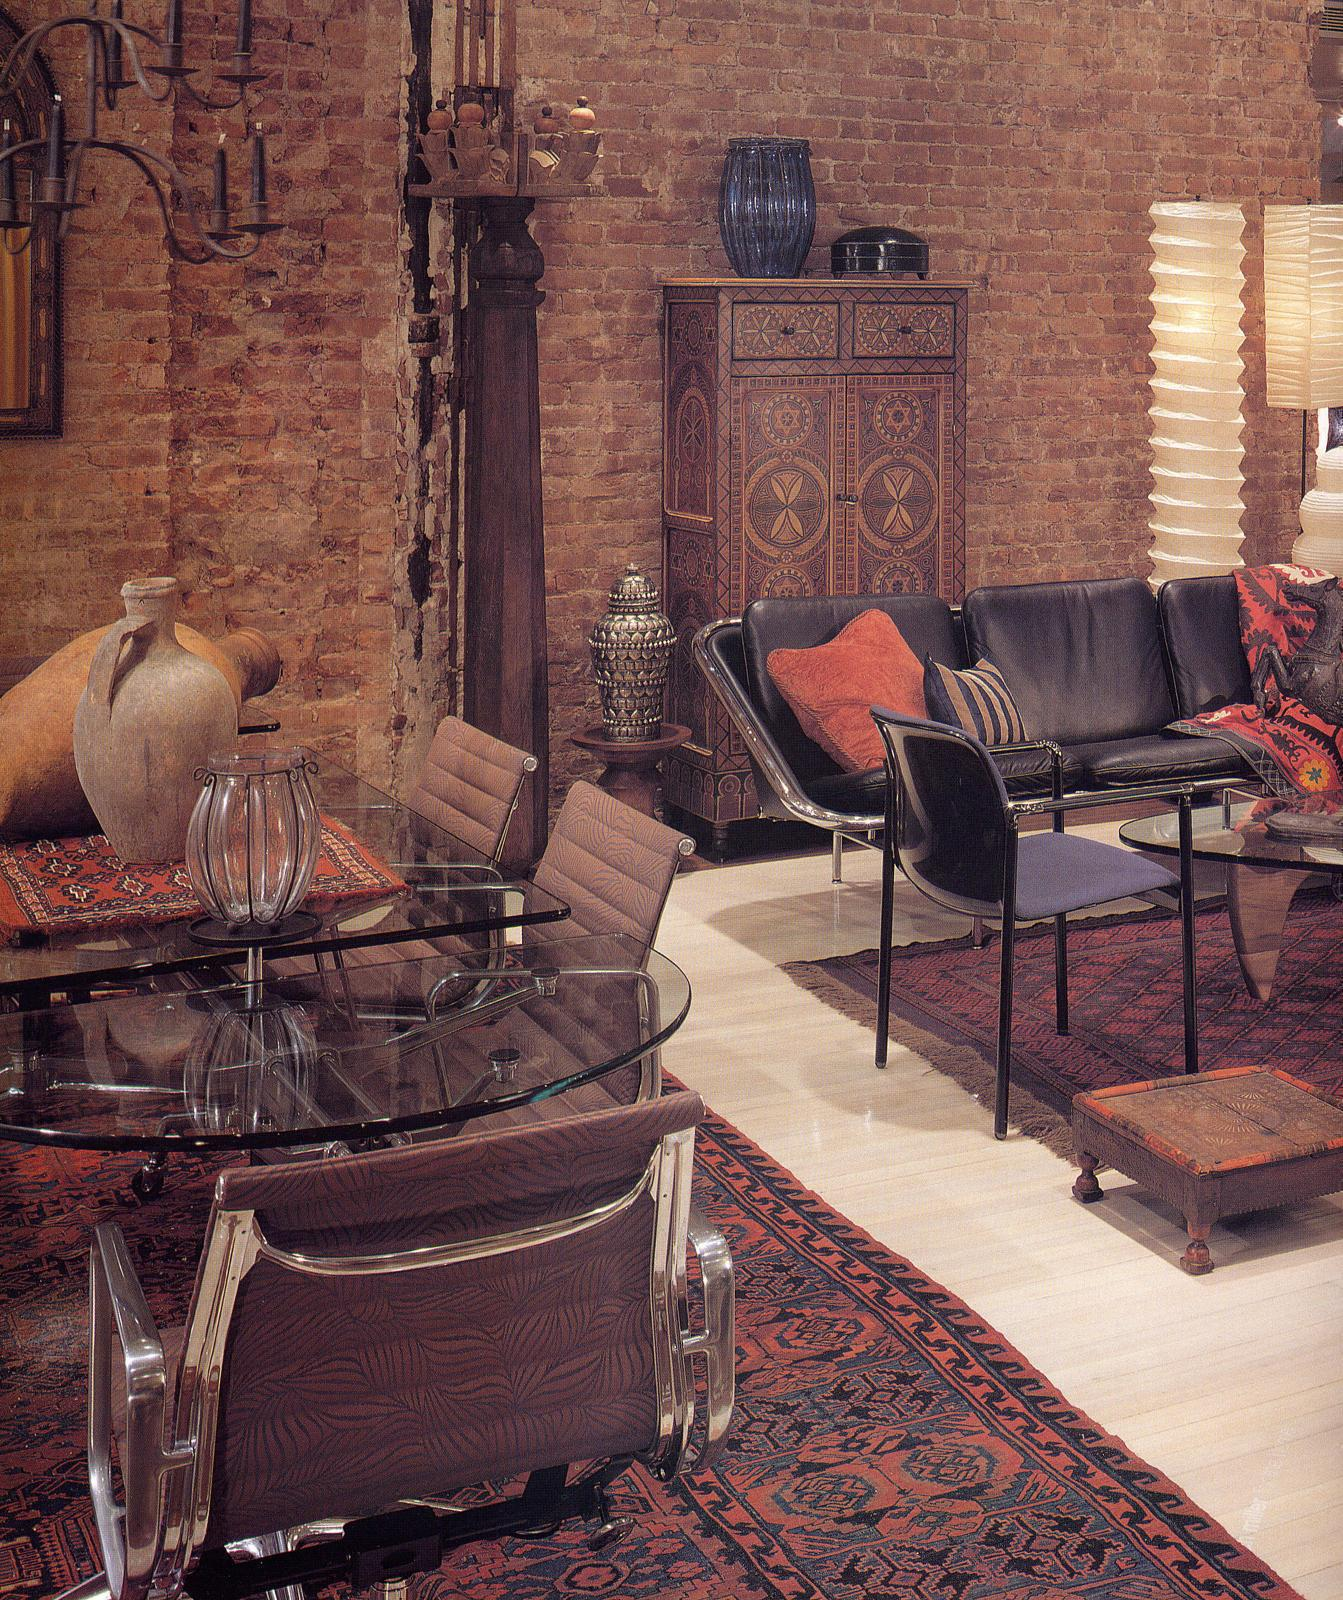Armario: (666, 290, 978, 801)
Otro Obstaculo: (1124, 1032, 1342, 1282), (1140, 199, 1256, 572)
